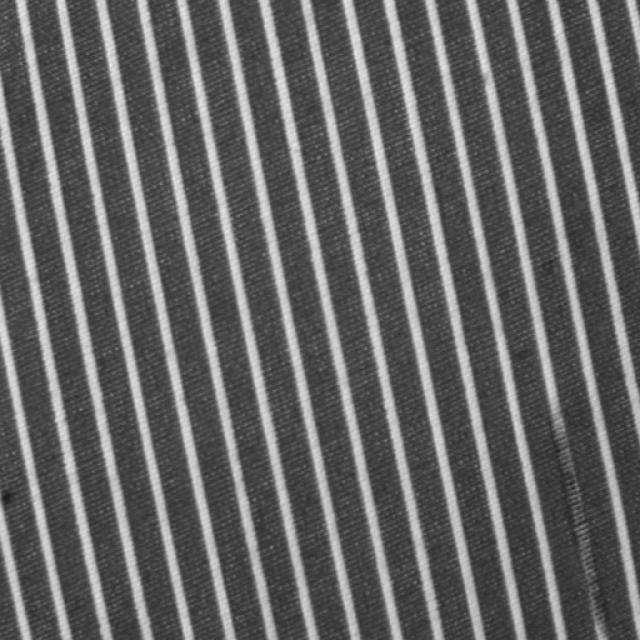Stain-Defect: (544, 412, 610, 639)
